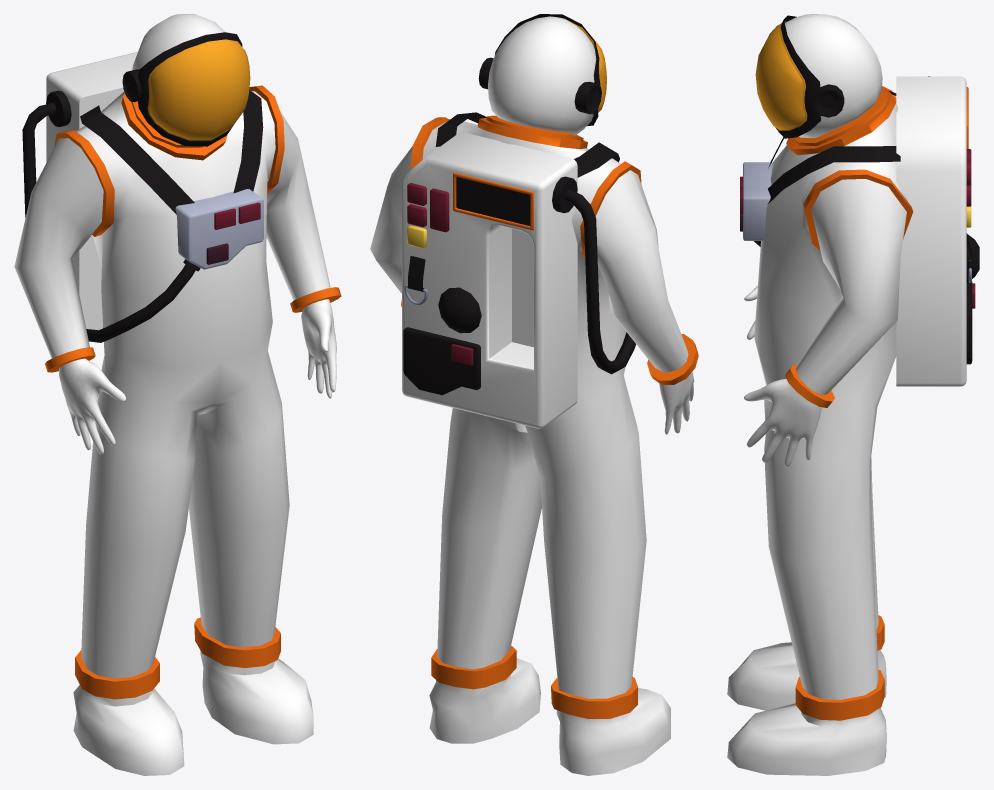
The model's file is MM_SpaceSuit.fbx.
3 views of the same model, side by side, from view 1: azimuth 30°, elevation 25°; view 2: azimuth 150°, elevation 25°; view 3: azimuth 270°, elevation 25° (orthographic).
Parts seen in each view (by area): view 1: SpaceSuit; view 2: SpaceSuit; view 3: SpaceSuit.
Part boxes in pixels (x1=…): SpaceSuit: x1=14, y1=14, x2=341, y2=775; SpaceSuit: x1=370, y1=14, x2=698, y2=775; SpaceSuit: x1=727, y1=14, x2=979, y2=775.
Size of the model in its own units: 80.6 by 188 by 60.78.
